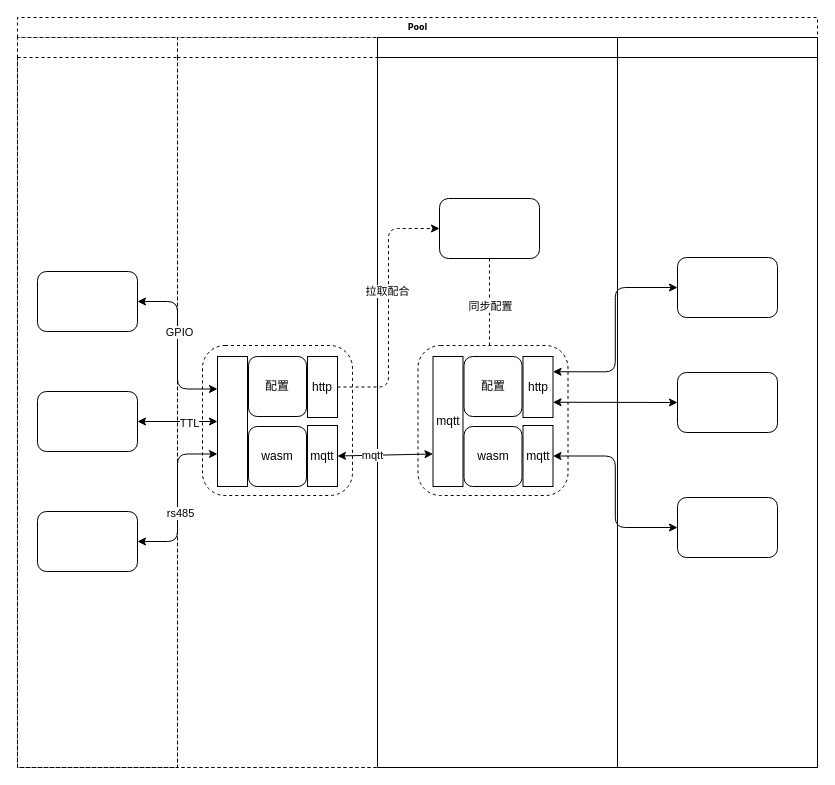
Image size: 835x785. Some labels were removed from this diagram. The box of each missing label's shape, as (x1, y1, x2, y2) in pixels:
云平台: (616, 36, 818, 768)
本地网关: (176, 36, 378, 768)
管理平台: (438, 198, 540, 258)
设备: (16, 36, 178, 768)
超融合: (376, 36, 618, 768)
